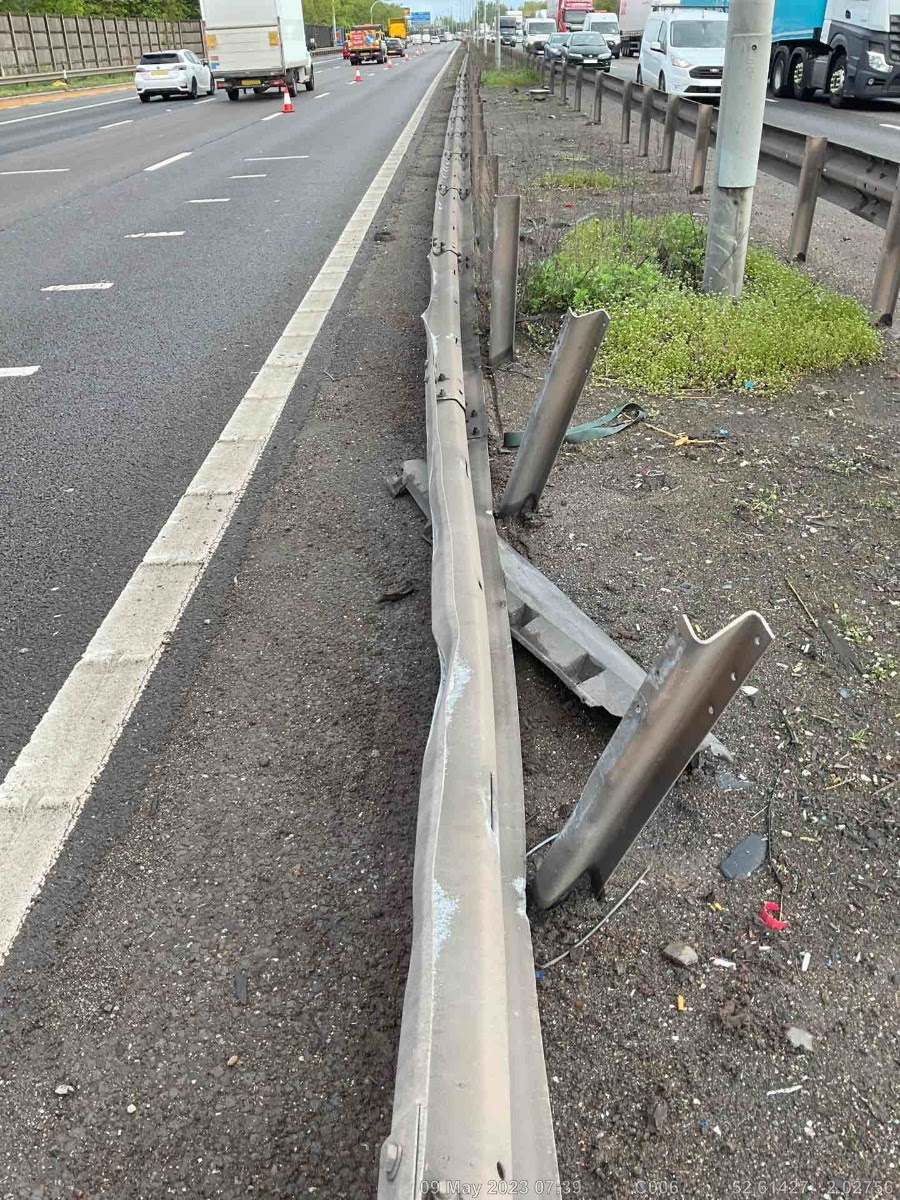damaged: (401, 284, 614, 1200)
